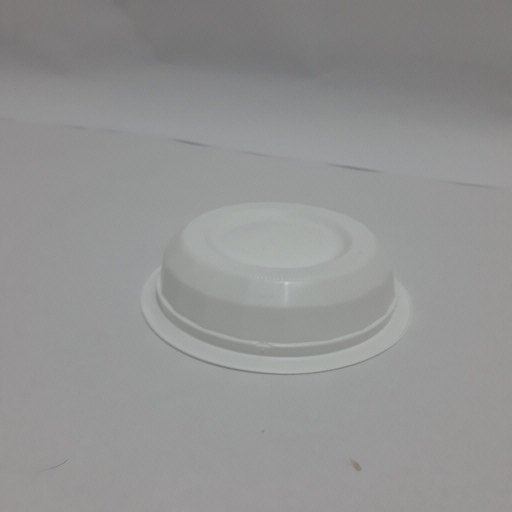Plastic_5: (137, 199, 413, 374)
